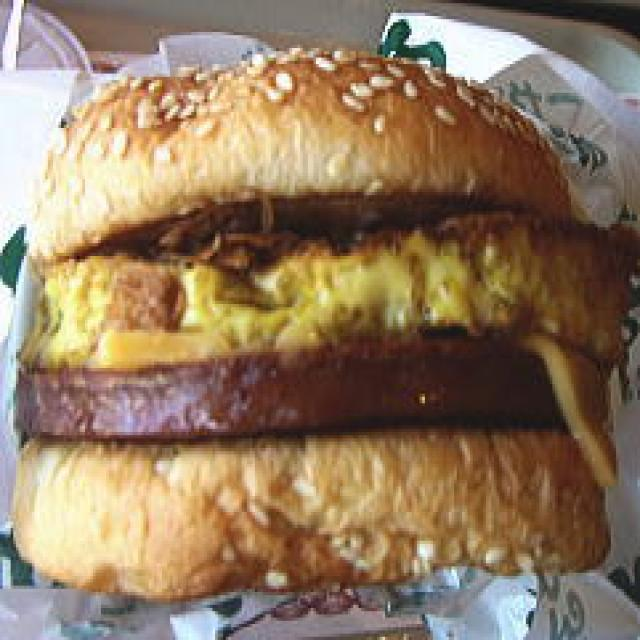Hamburger: (0, 10, 620, 588)
